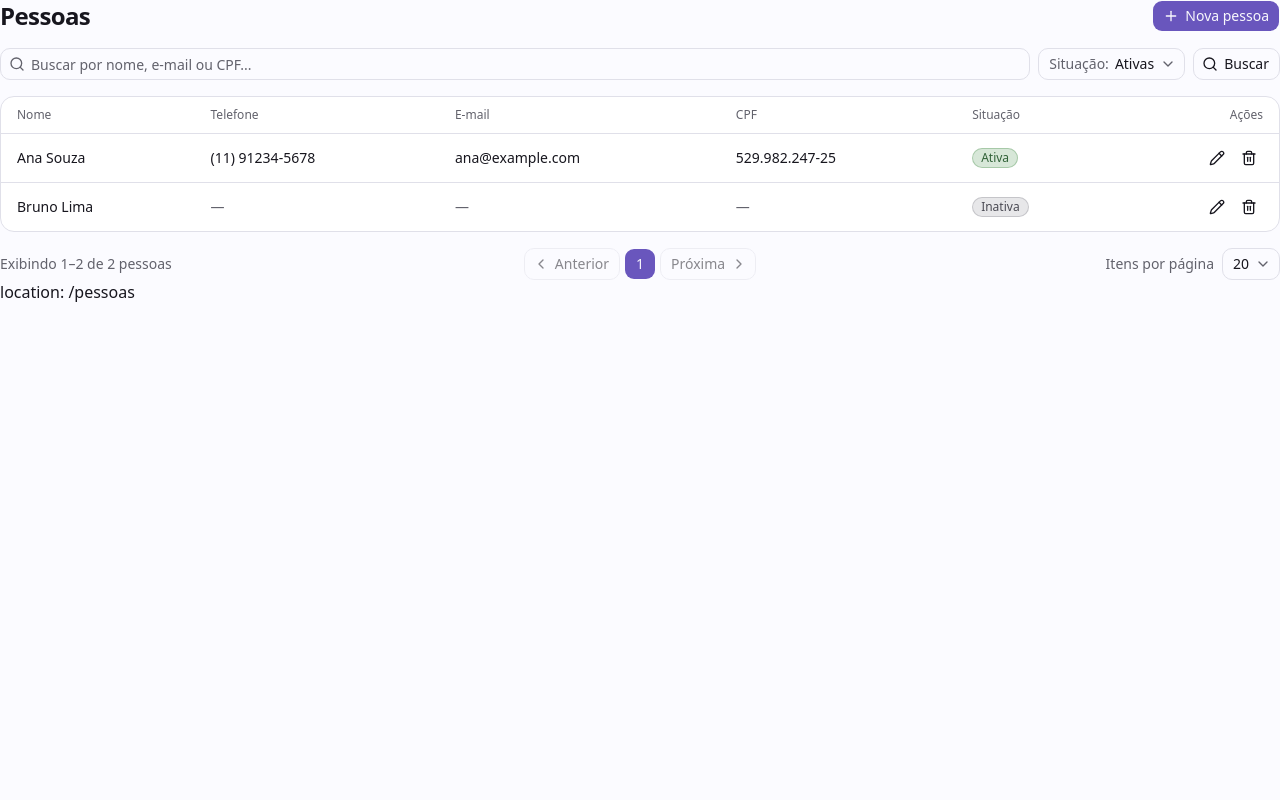
Test: ClientDeletePage › goes back to the list after deleting, so the browser Back button does not reopen the confirmation
Check: the link "Ana Souza" is shown, box x1=17 y1=148 x2=85 y2=167
Click the link named "Excluir Ana Souza" at (1249, 158), box x1=1241 y1=150 x2=1257 y2=166
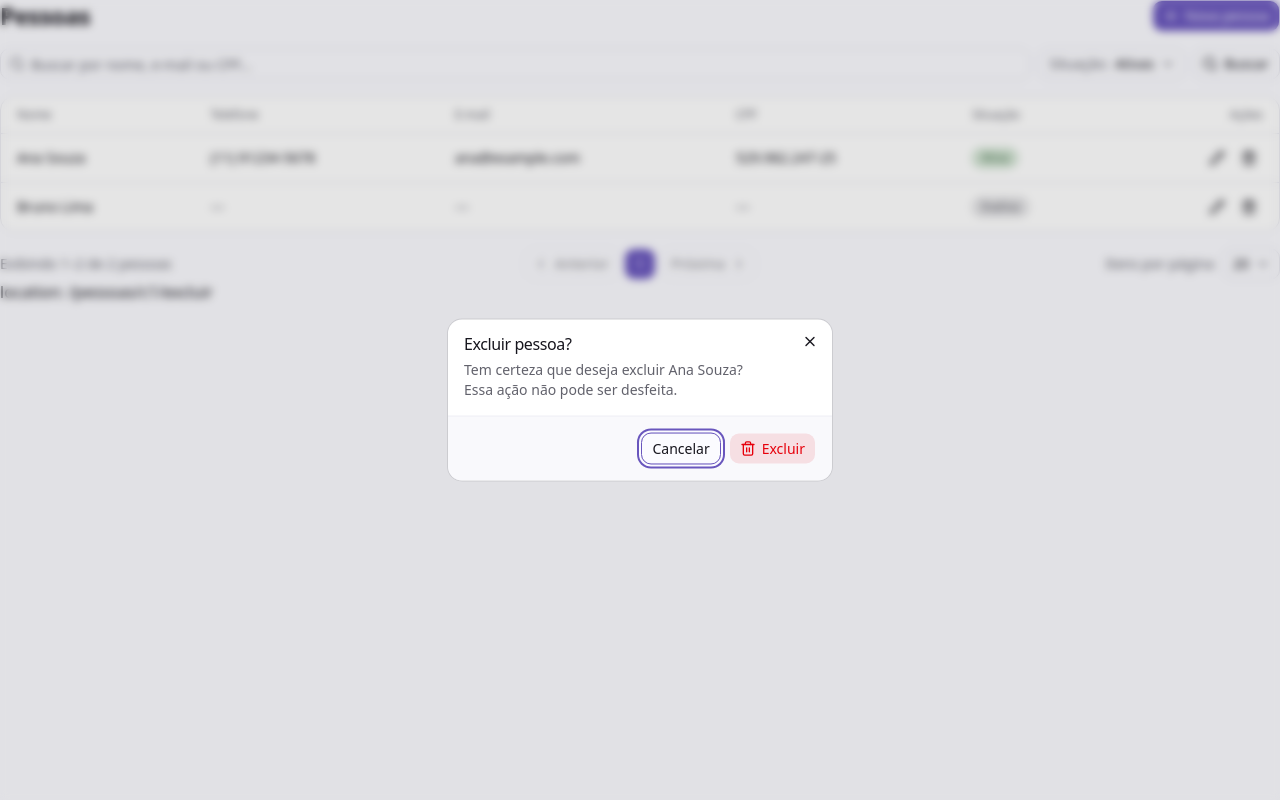
Check: the text "Tem certeza que deseja excluir Ana Souza?" is shown, box x1=464 y1=360 x2=743 y2=378
Click the button "Excluir" at (772, 448), box x1=729 y1=432 x2=816 y2=464
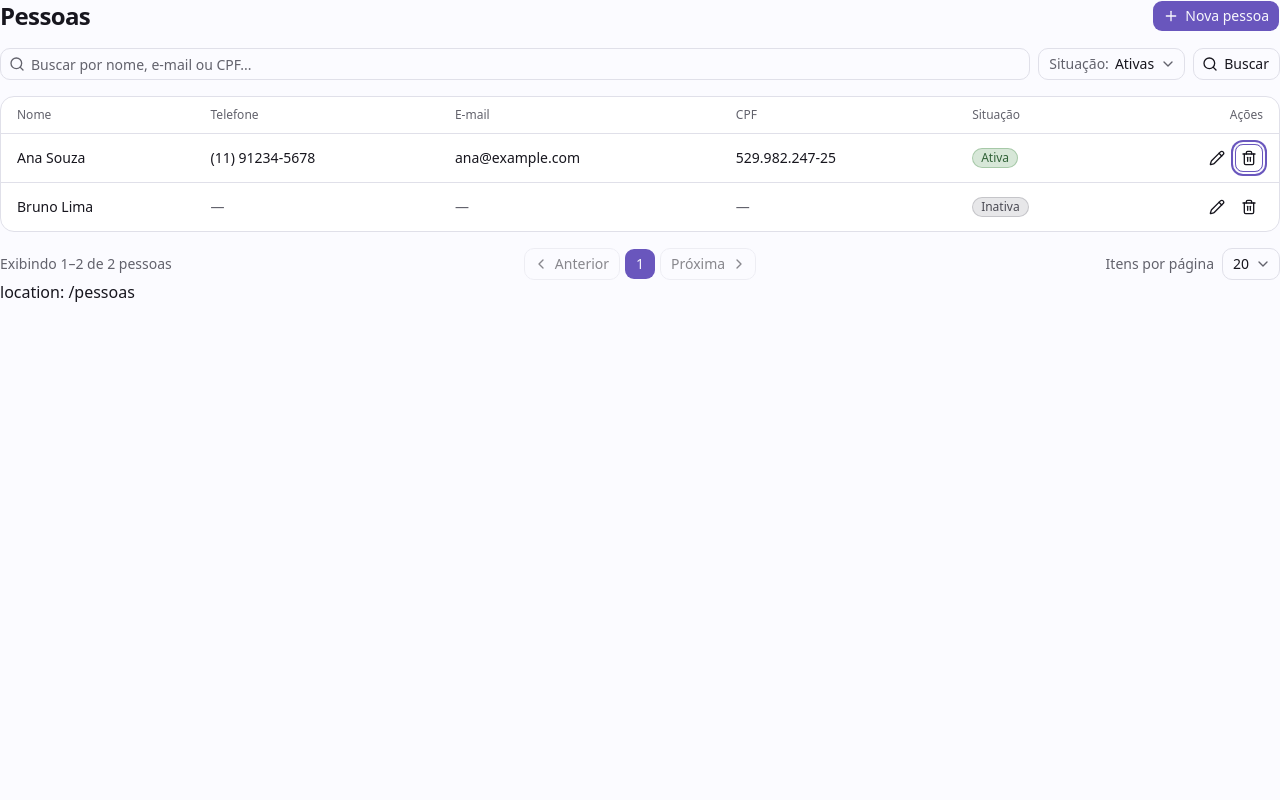
Check: the text with test id "location" reads "location: /pessoas", box x1=0 y1=281 x2=135 y2=303
